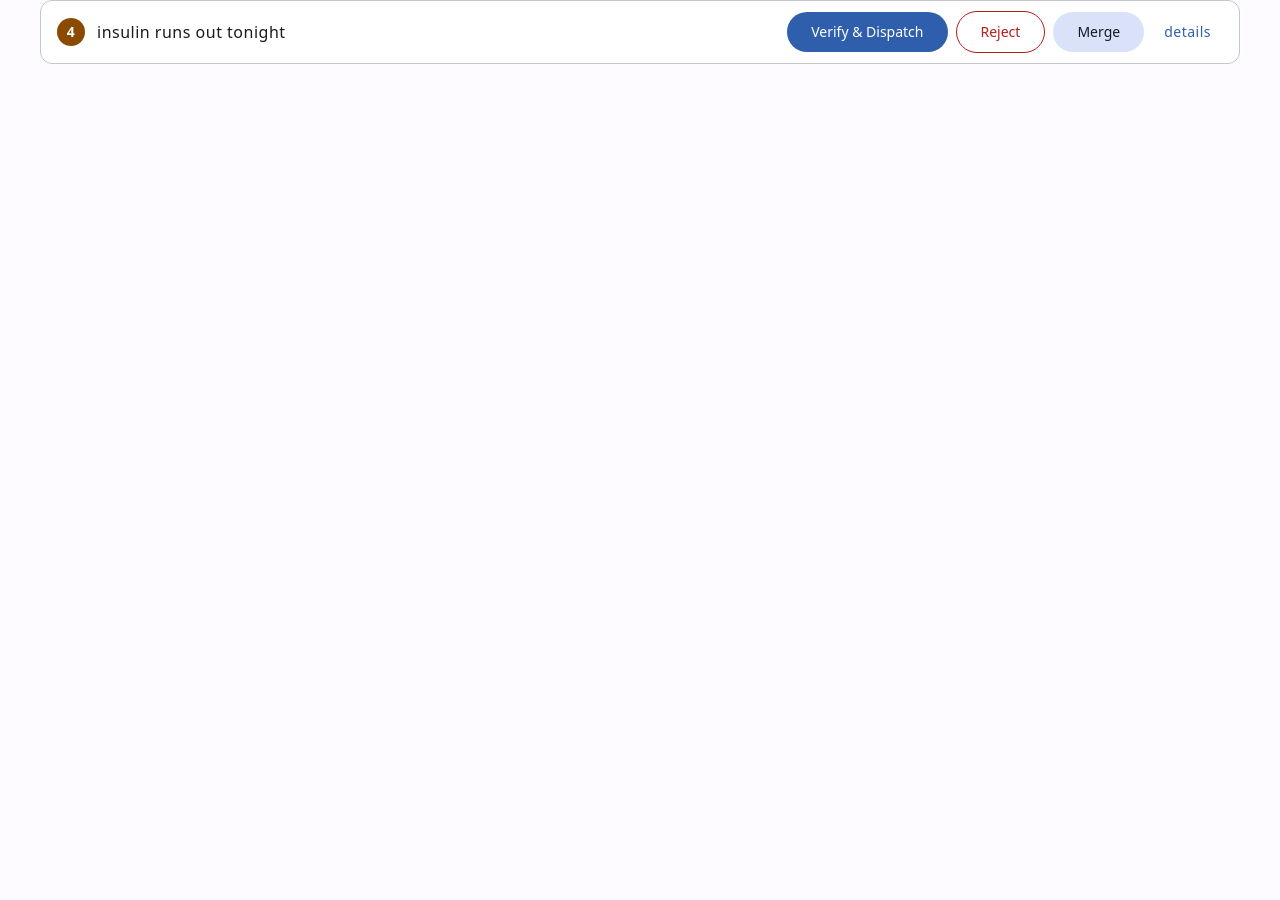
IntakeInboxView (§5, FR-401/402) › opens a confirmation (not an immediate merge) when Merge is clicked, per ui-spec.md §5.1
Click the button "Merge".
click(1099, 32)  # box top-left (1053, 12), bottom-right (1144, 52)
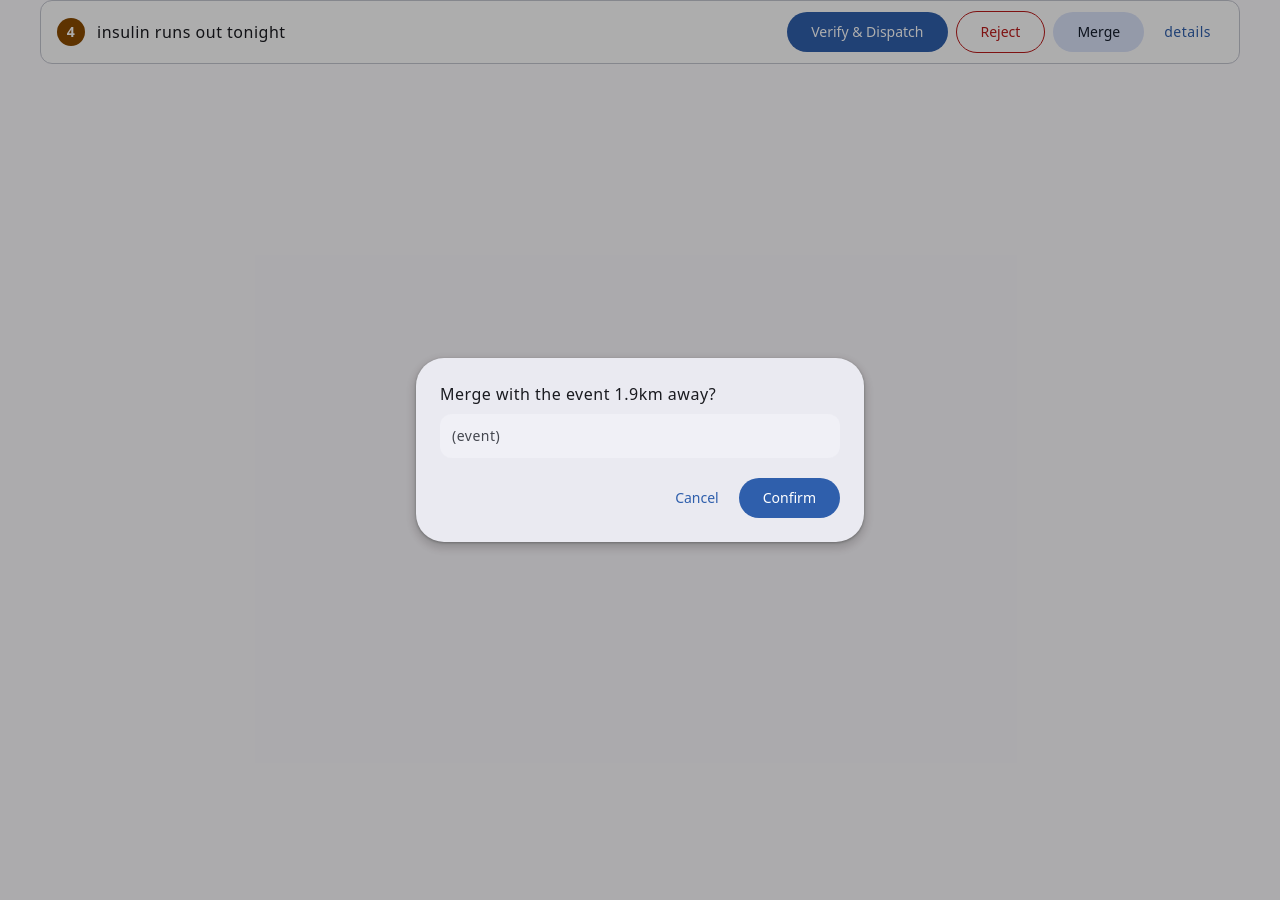
Check: the dialog "confirm merge" is shown, box top-left (416, 358), bottom-right (864, 542)
